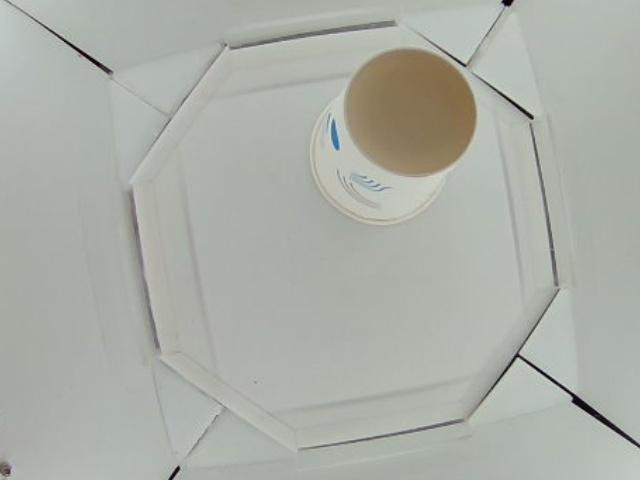Cup: (307, 46, 479, 225)
